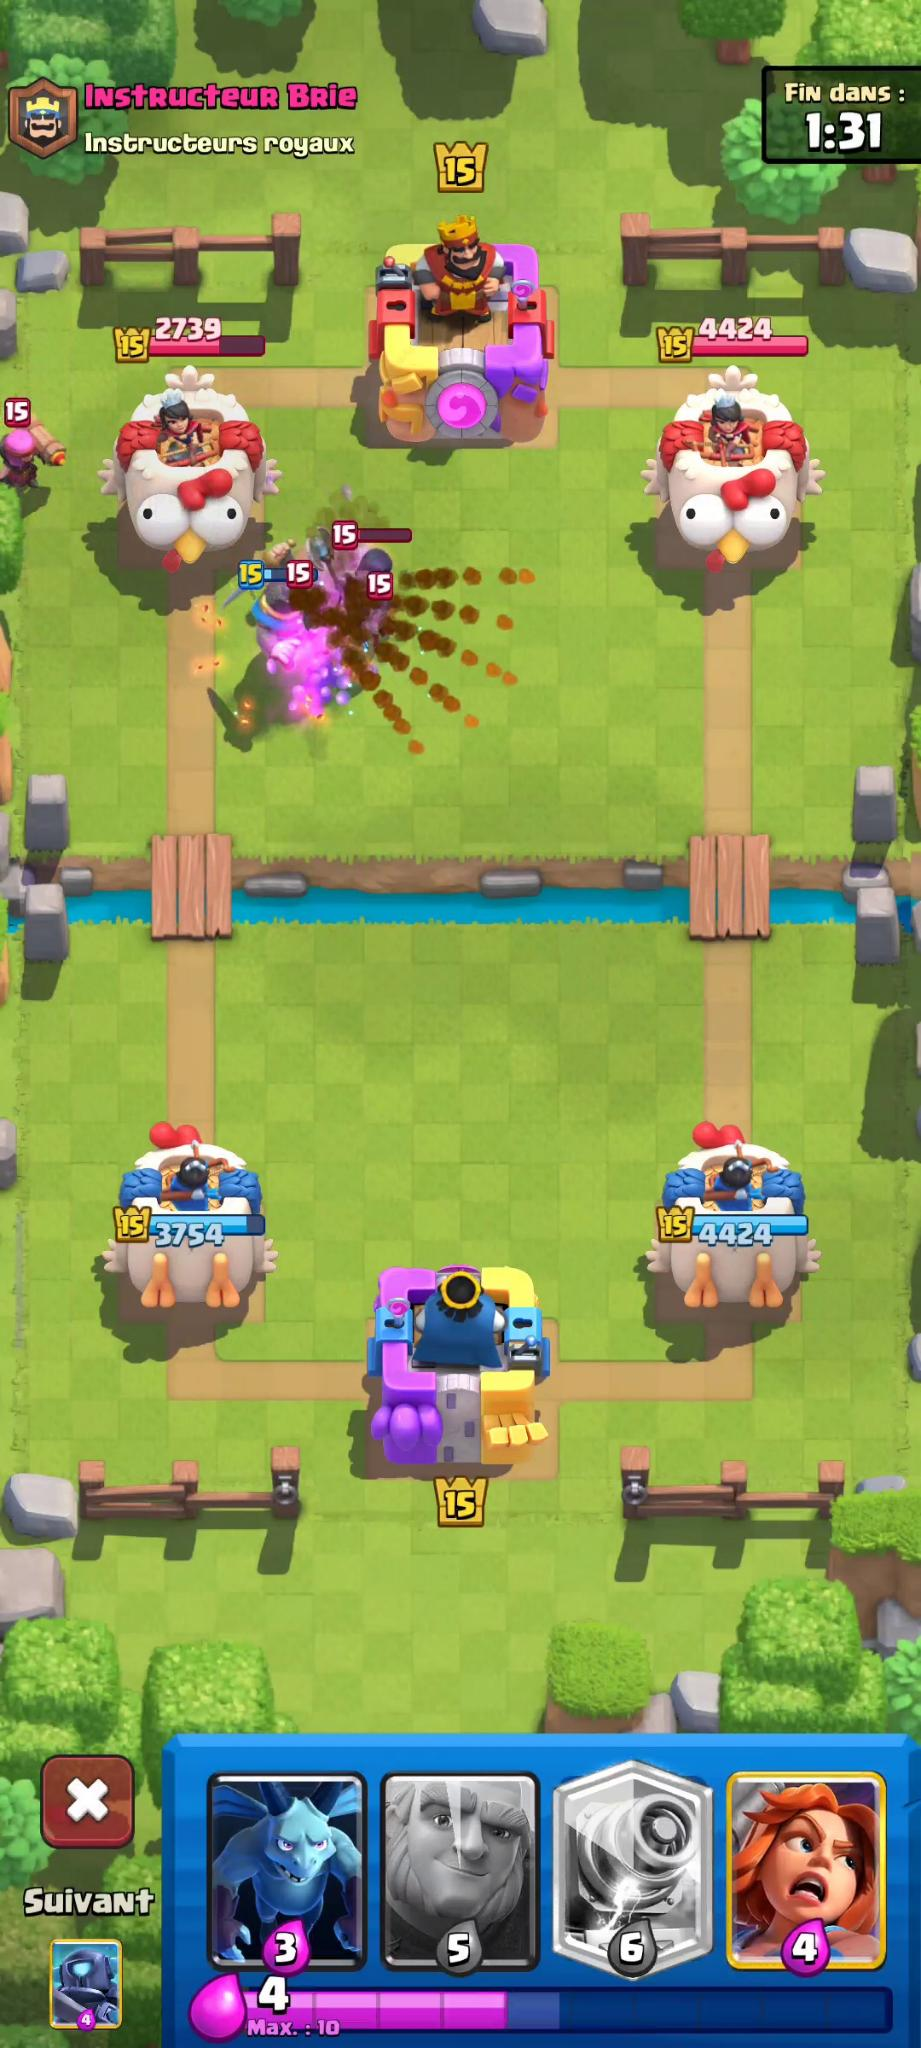bat: (346, 585, 421, 649), (281, 564, 334, 637)
chevalier: (235, 564, 341, 700)
